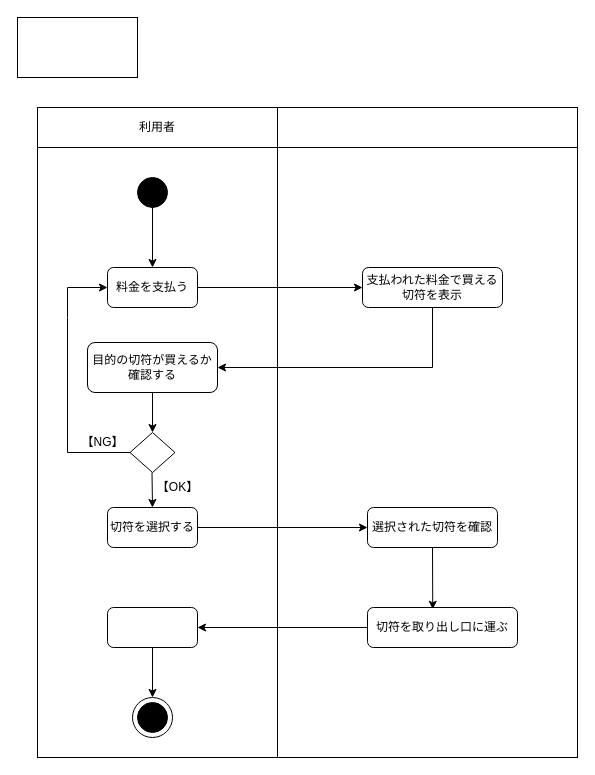
Image size: 595x775. Some labels were removed from this diagram. Here are the shapes that lost their labels. From the top down, the centre of each, then its label:
the point at 77,47: lesson10-2
the point at 427,127: 自販機
the point at 152,627: 切符を受け取る
